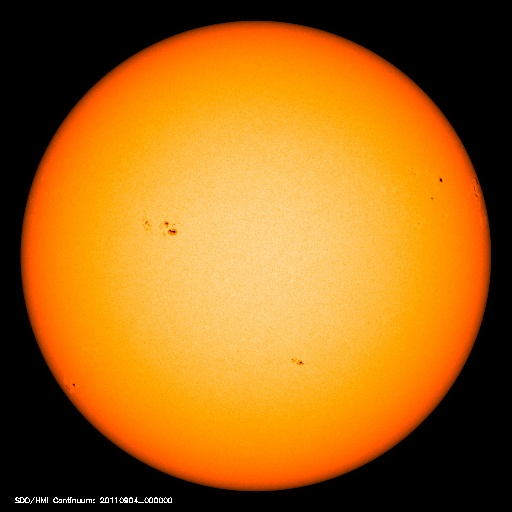sunspot: (133, 206, 188, 245), (405, 159, 446, 205), (469, 172, 488, 208), (60, 373, 85, 398), (285, 349, 310, 374)
